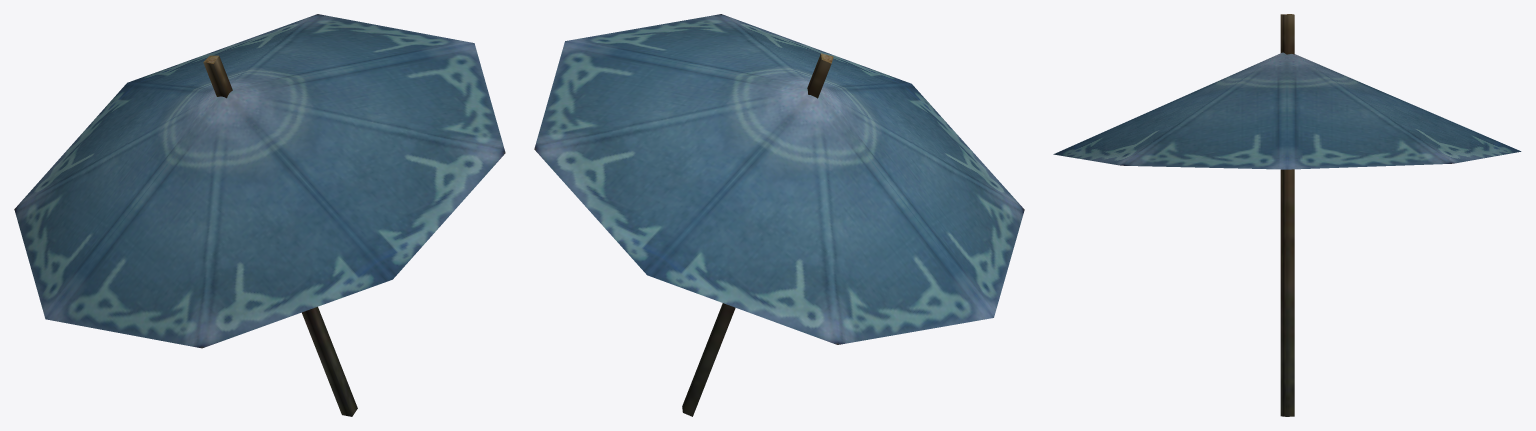
File: zc_suzhou_san01.FBX
The picture shows the model from 3 angles, left to right: view 1: azimuth 30°, elevation 25°; view 2: azimuth 150°, elevation 25°; view 3: azimuth 270°, elevation 25°; orthographic projection. The views are drawn at different scales.
Parts seen in each view (by area): view 1: zc_suzhou_san01; view 2: zc_suzhou_san01; view 3: zc_suzhou_san01.
Part boxes in pixels (bbox=[...]): zc_suzhou_san01: bbox=[14, 14, 505, 416]; zc_suzhou_san01: bbox=[534, 14, 1024, 416]; zc_suzhou_san01: bbox=[1053, 14, 1521, 416].
Bounding box in the file's own units: 231 × 202 × 247.
